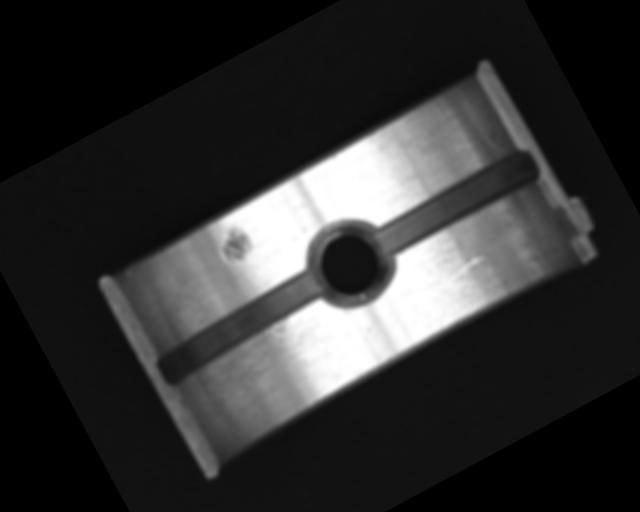bruise: (213, 220, 258, 268)
gap: (149, 262, 335, 390), (366, 145, 544, 265)
hole: (299, 207, 405, 318)
nick: (428, 253, 488, 292)
scratch: (178, 292, 362, 437)
